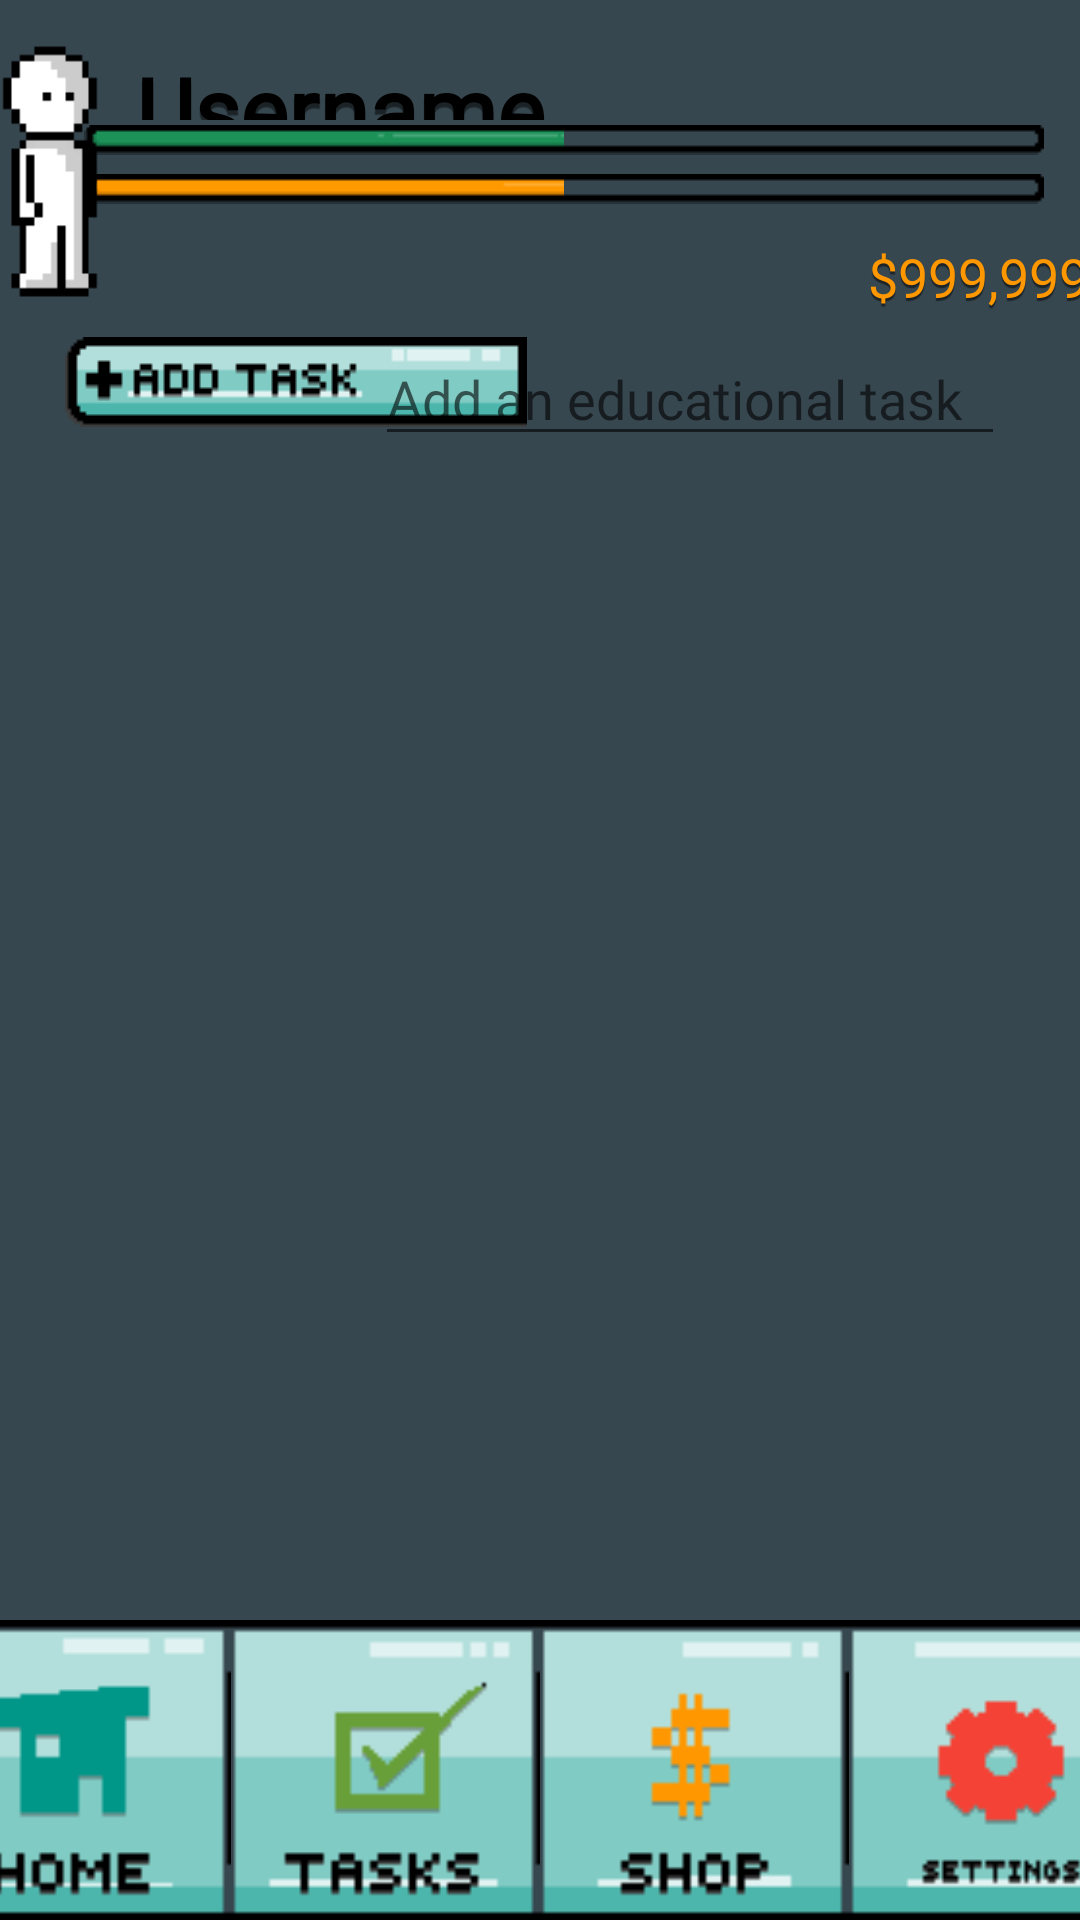

Where icons sit on this 1080px x 1920px app screen, as [left=x1, top=y1, right=x2, bottom=y2]:
sprite: [left=3, top=46, right=101, bottom=297]
